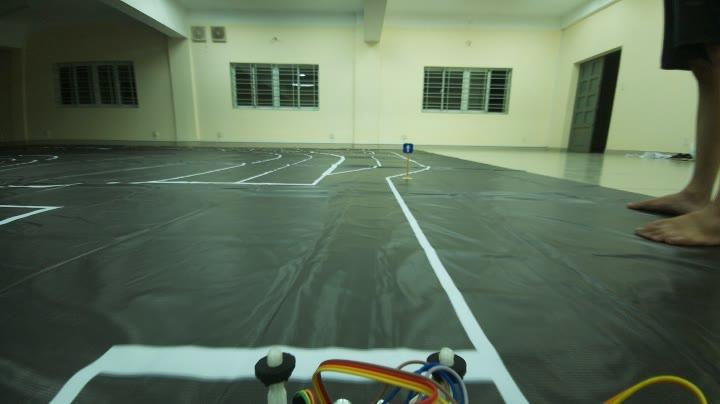onewayroad: (402, 138, 417, 154)
